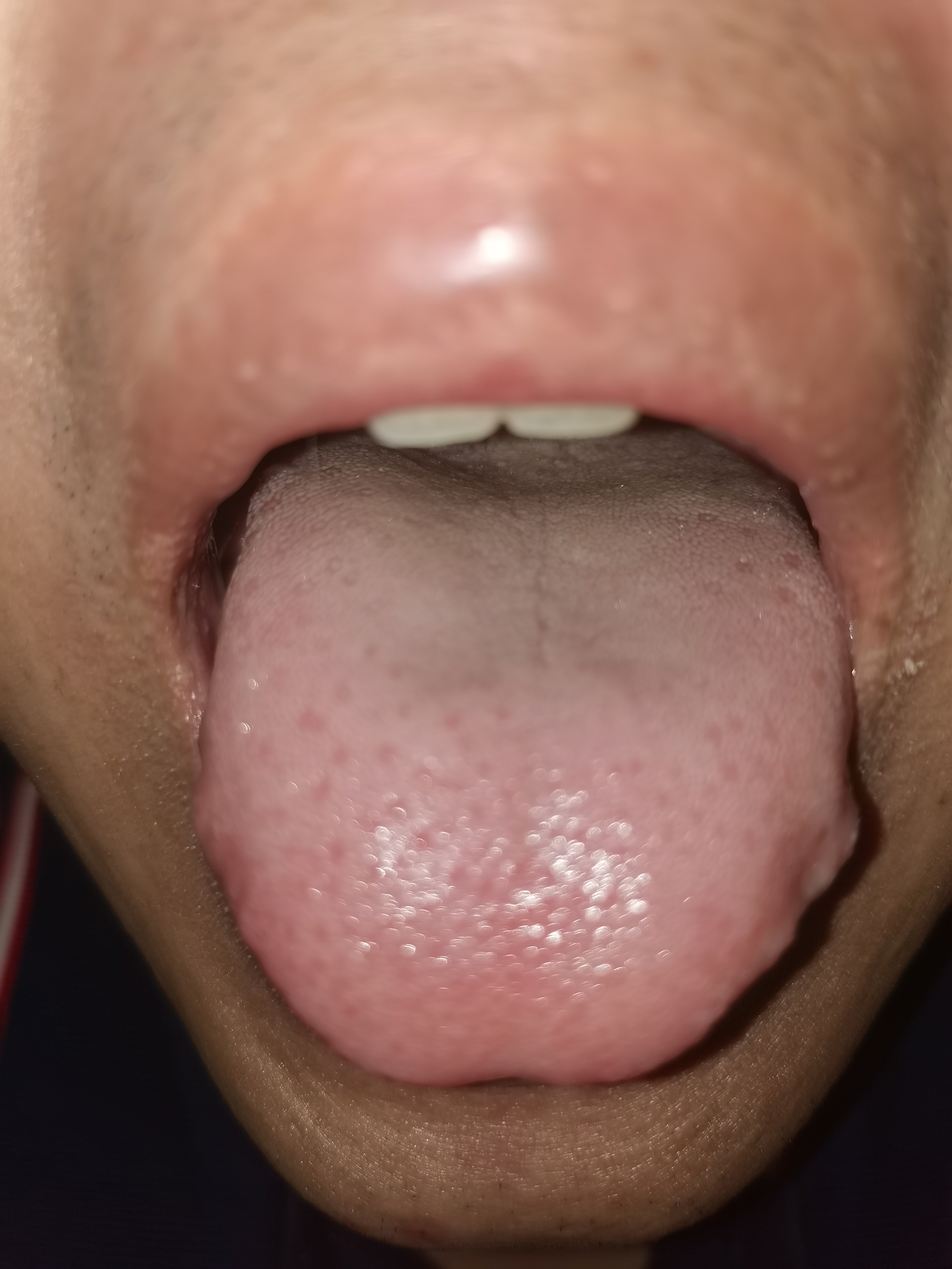baitaishe: (192, 429, 859, 1086)
hongdianshe: (289, 707, 619, 929)
